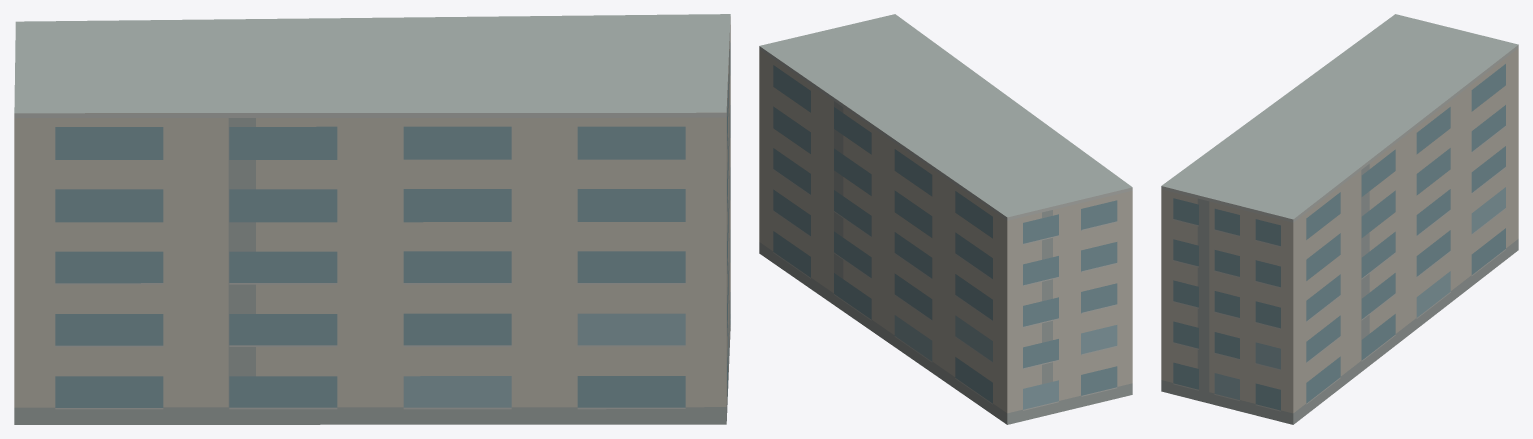
The model's file is residential-d379b47a-3a22-4a2e-8553-e09d57b0d627.glb.
3 renders of one model, left to right at view 1: azimuth 30°, elevation 25°; view 2: azimuth 150°, elevation 25°; view 3: azimuth 270°, elevation 25°, orthographic. The views are drawn at different scales.
Visible parts, largest first — view 1: residential-d379b47a-3a22-4a2e-8553-e09d57b0d627.tmp; view 2: residential-d379b47a-3a22-4a2e-8553-e09d57b0d627.tmp; view 3: residential-d379b47a-3a22-4a2e-8553-e09d57b0d627.tmp.
Boxes of the visible parts, x1=… form: residential-d379b47a-3a22-4a2e-8553-e09d57b0d627.tmp: x1=14, y1=14, x2=730, y2=424; residential-d379b47a-3a22-4a2e-8553-e09d57b0d627.tmp: x1=759, y1=14, x2=1132, y2=424; residential-d379b47a-3a22-4a2e-8553-e09d57b0d627.tmp: x1=1161, y1=14, x2=1518, y2=424.
Bounding box in the file's own units: 32.71 × 15.25 × 24.06.
